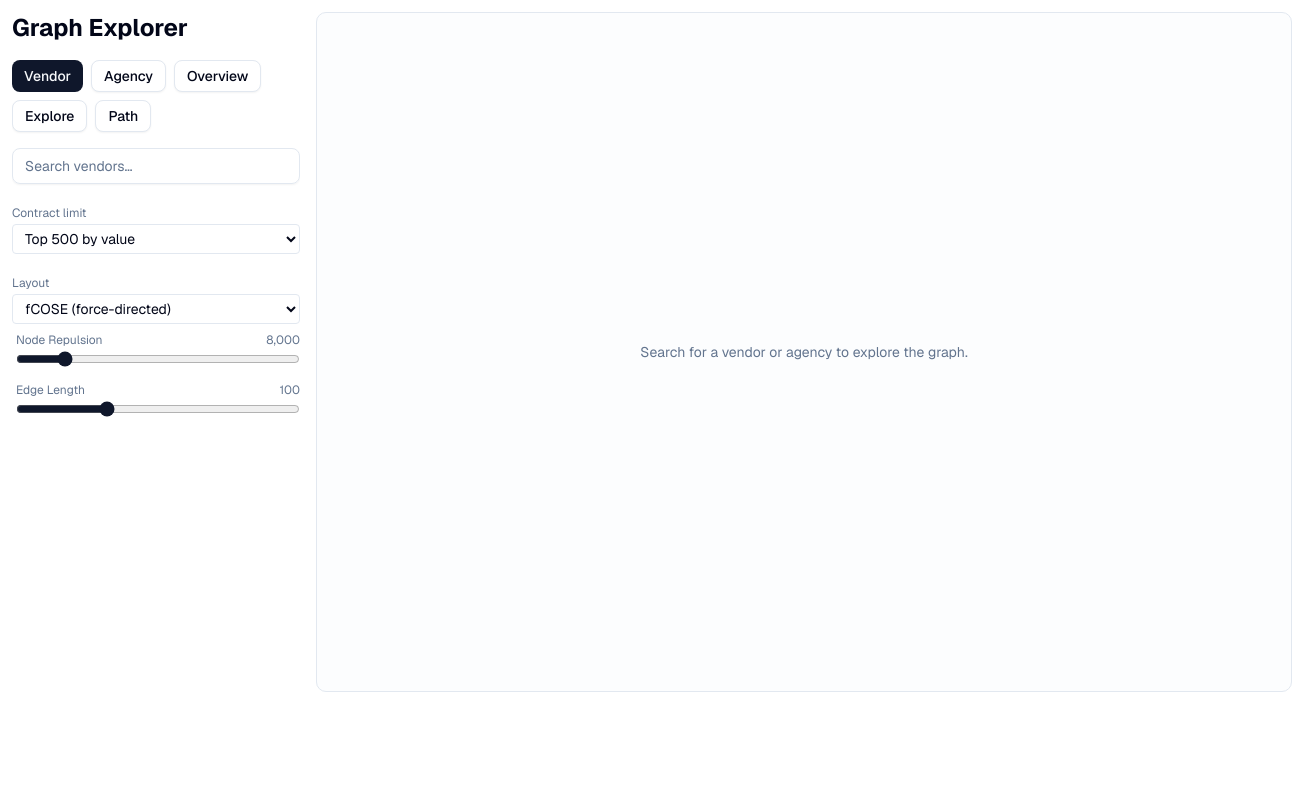
Test: GraphPage › switches to agency search when Agency button is clicked
Click the button "Agency" at {"x": 128, "y": 76}, box [91, 60, 166, 92]
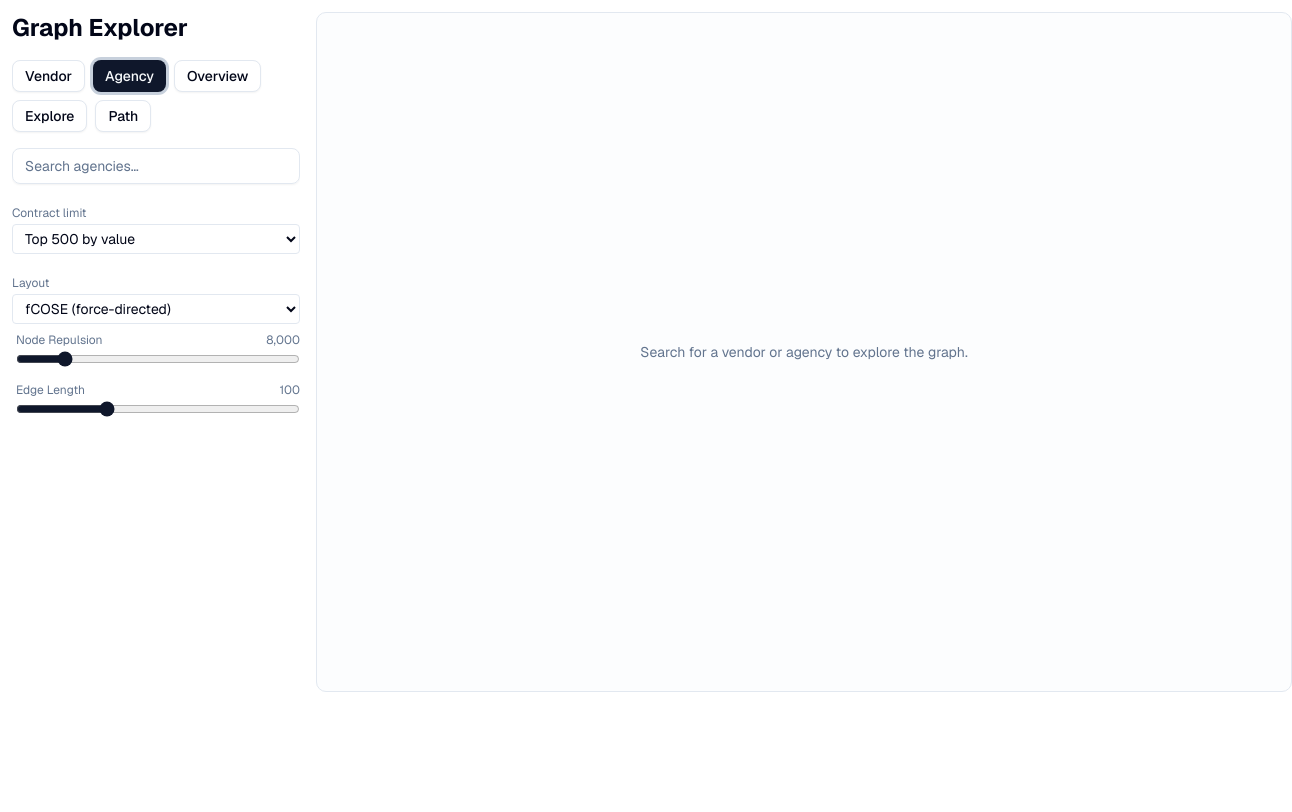
Check: the field with placeholder "Search agencies…" is shown, box [12, 148, 300, 184]
